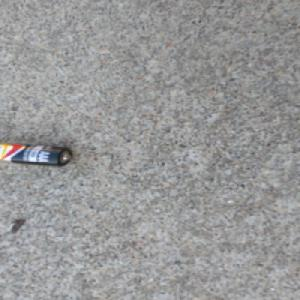Battery: (0, 142, 73, 167)
